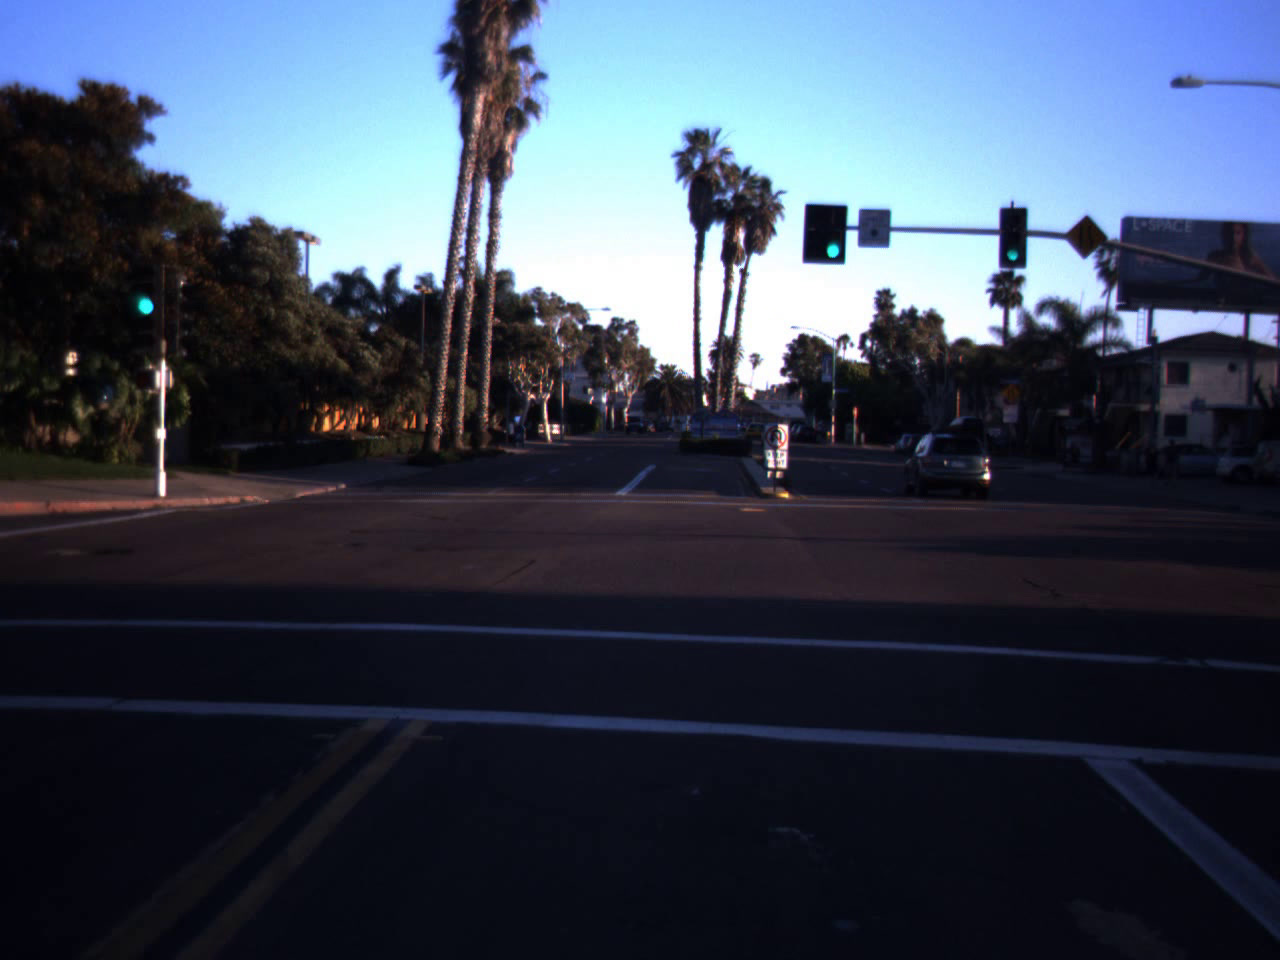go: (128, 250, 164, 320), (818, 203, 848, 263), (1004, 241, 1022, 261)
